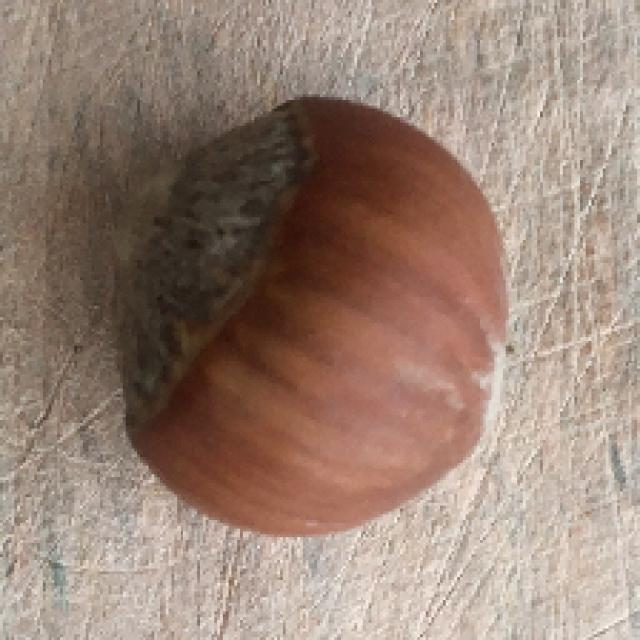qualityHazelnut: (114, 95, 520, 529)
